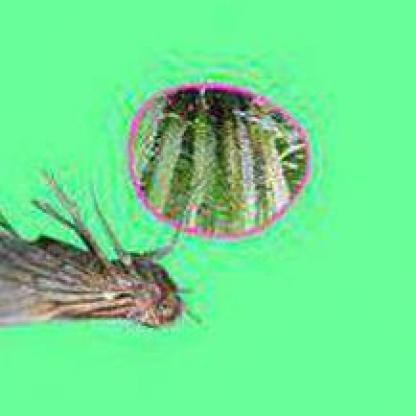brown-planthopper: (0, 192, 196, 332)
